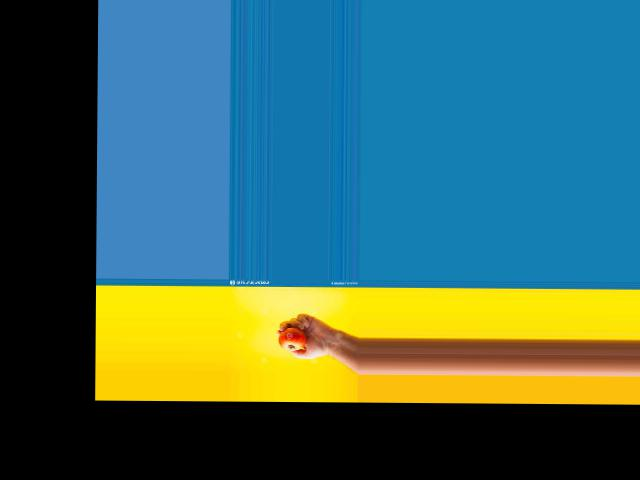tomato: (279, 327, 306, 350)
